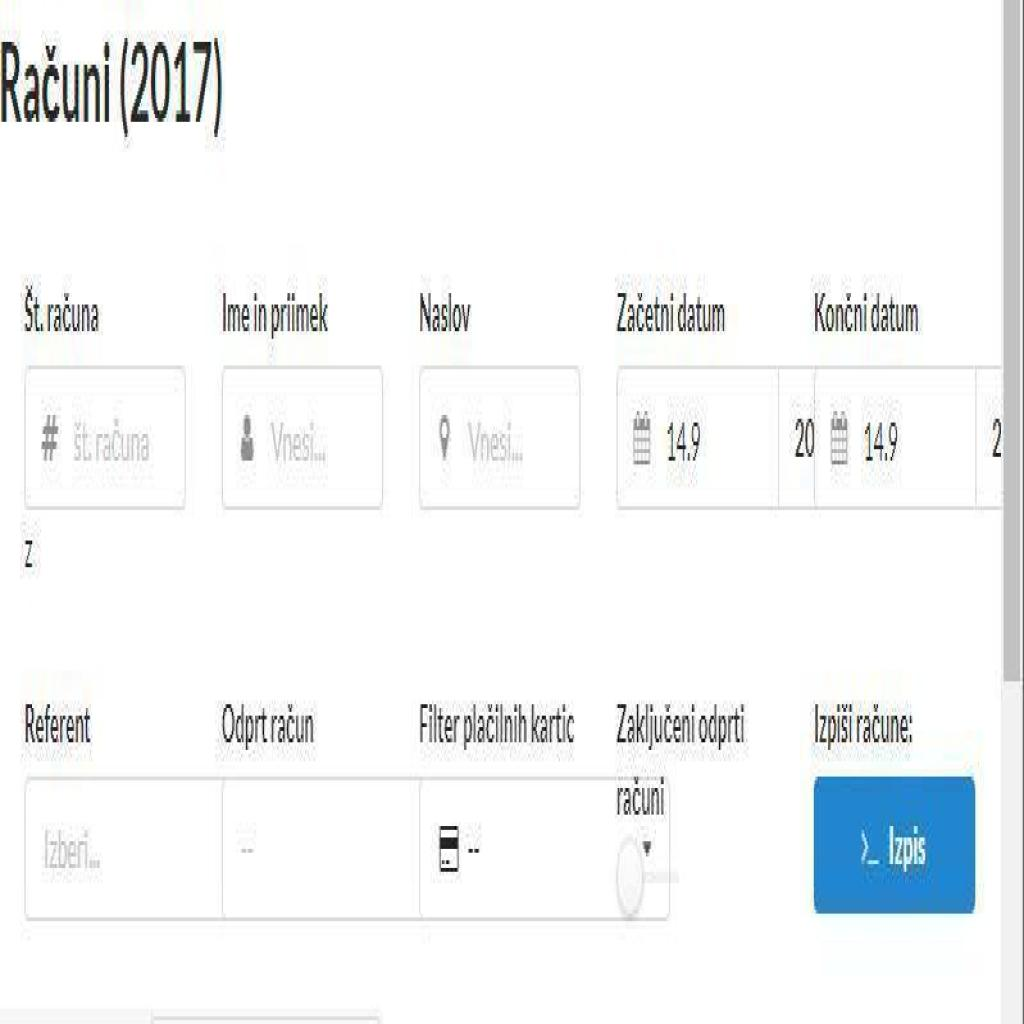button: (814, 776, 975, 914)
input: (782, 362, 976, 514), (23, 777, 223, 921), (226, 777, 419, 921), (422, 780, 612, 925), (224, 362, 382, 518), (616, 369, 776, 514), (419, 366, 578, 506), (26, 373, 183, 506)
label: (0, 26, 223, 144), (614, 689, 751, 765), (416, 696, 580, 758), (220, 274, 330, 350), (616, 278, 728, 350), (814, 282, 926, 350), (810, 689, 916, 758), (18, 278, 108, 354), (223, 689, 314, 754), (23, 693, 96, 757), (418, 282, 477, 350)
